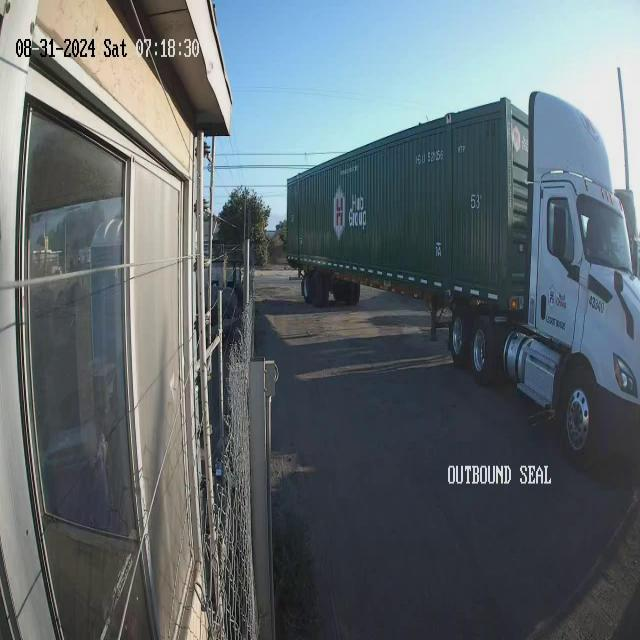CONTAINER: (288, 96, 532, 323)
